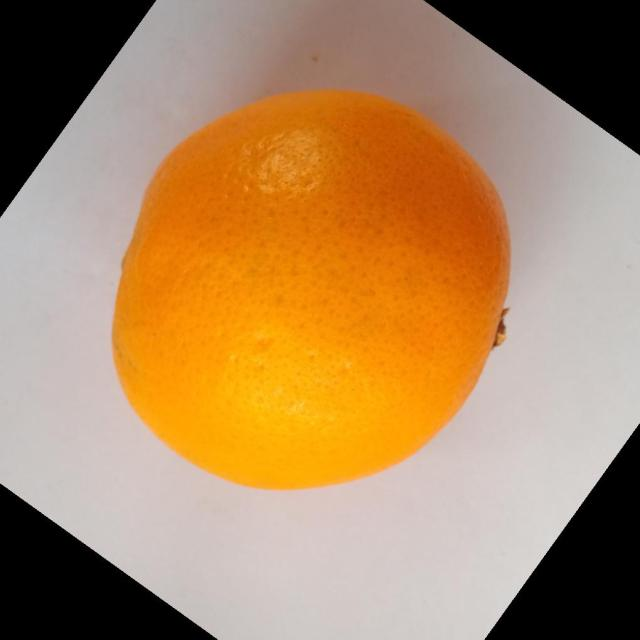fresh orange: (110, 87, 512, 491)
